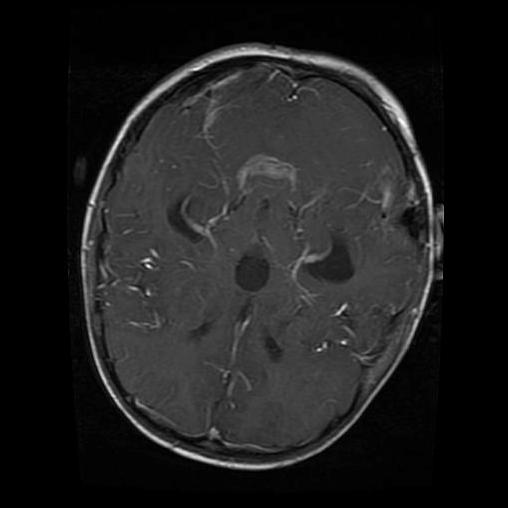Tumour-Glioma: (384, 169, 446, 271)
